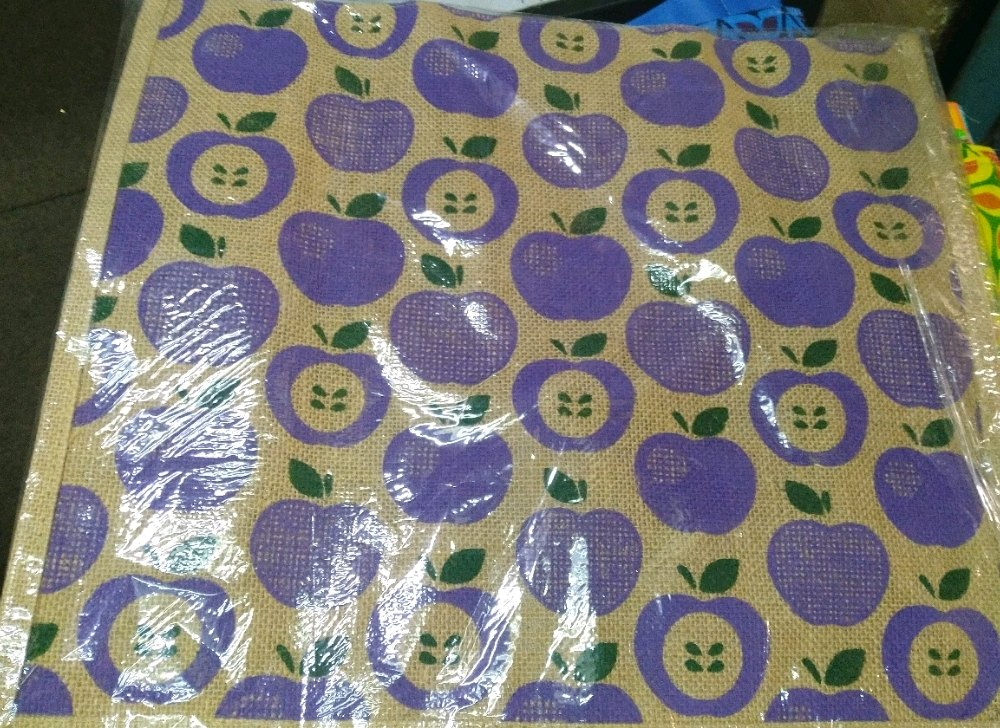jutebag: (2, 1, 997, 726)
